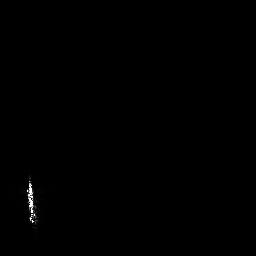ship: (26, 172, 40, 226)
